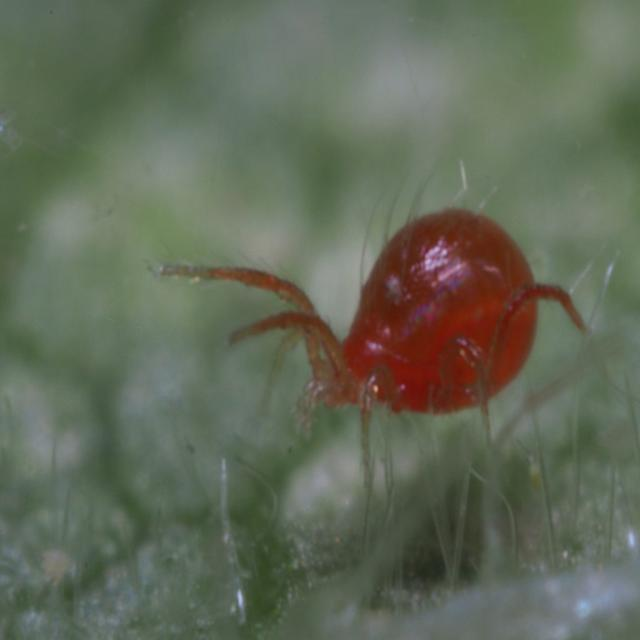Mites: (138, 164, 598, 460)
